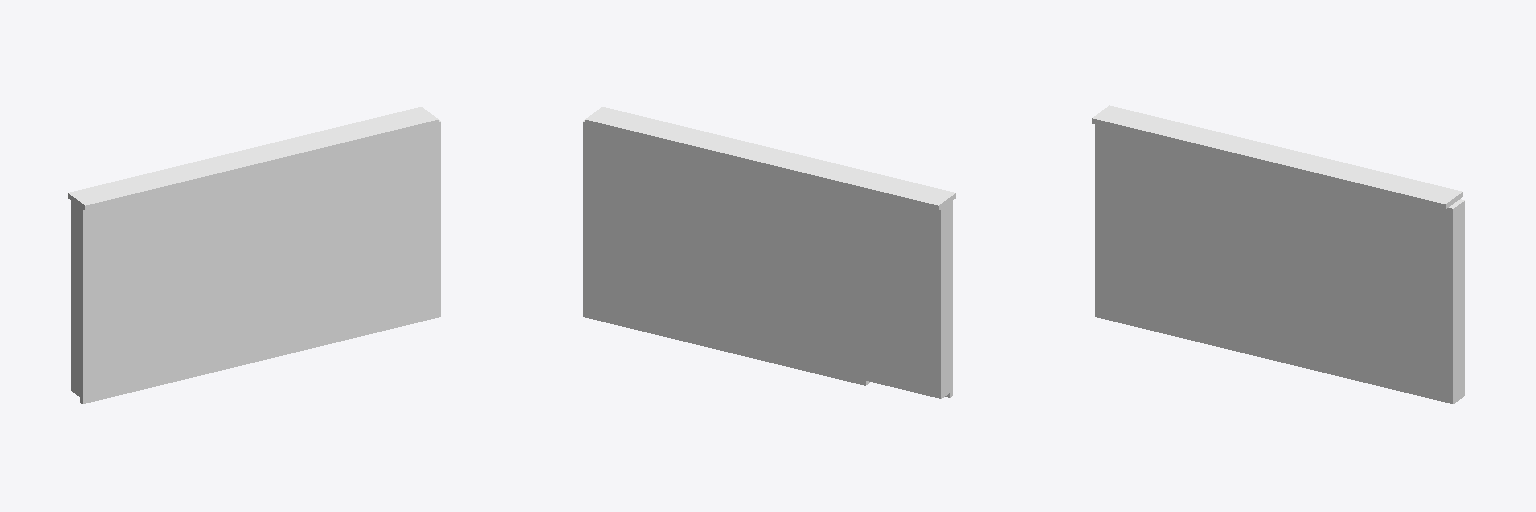
File: modern-wall-white-small.obj
3 views of the same model, side by side, from view 1: azimuth 30°, elevation 25°; view 2: azimuth 150°, elevation 25°; view 3: azimuth 330°, elevation 25° (orthographic).
Parts seen in each view (by area): view 1: modern:wall-white-small; view 2: modern:wall-white-small; view 3: modern:wall-white-small.
Part boxes in pixels (x1,y1,x2,y2): modern:wall-white-small: (68, 107, 440, 403); modern:wall-white-small: (583, 107, 955, 398); modern:wall-white-small: (1092, 105, 1464, 403).
Bounding box in the file's own units: 71 × 38 × 6.